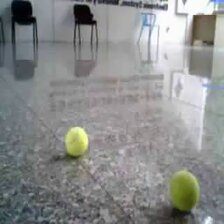tennis: (169, 171, 197, 210), (65, 126, 88, 155)
